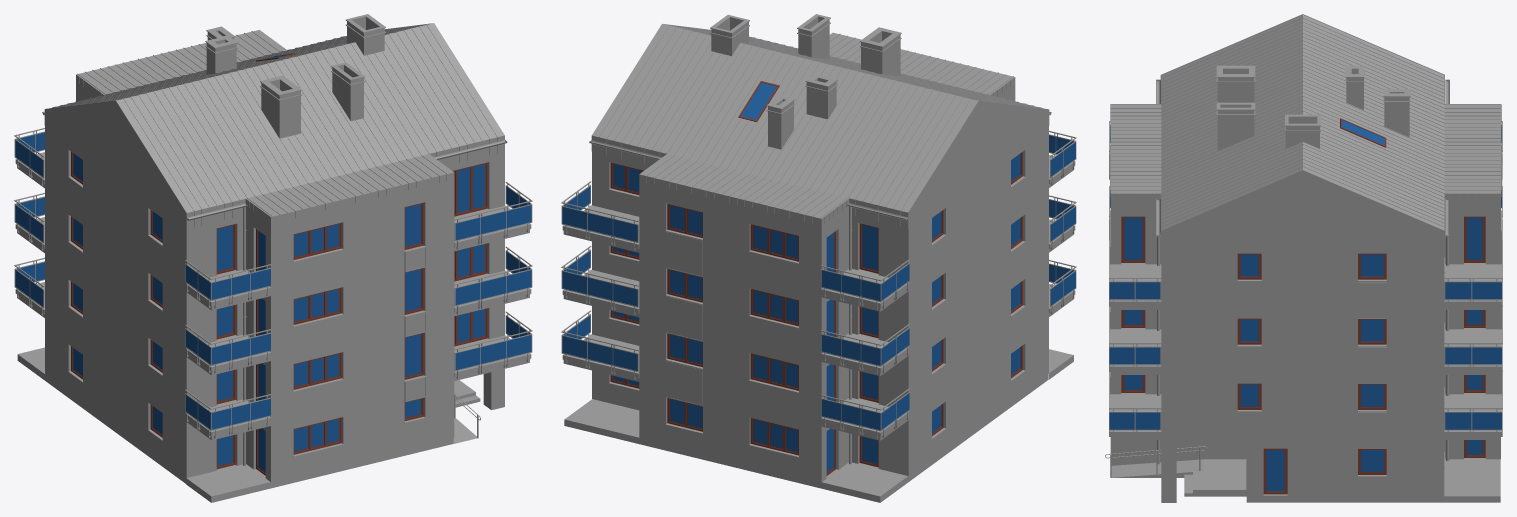
File: building_04.obj
3 renders of one model, left to right at view 1: azimuth 30°, elevation 25°; view 2: azimuth 150°, elevation 25°; view 3: azimuth 270°, elevation 25°, orthographic.
Parts seen in each view (by area): view 1: building_walls, roof, foundation_wall, window_005, barrels, chimney, balcony, metal_cover, terrace, boards, eneter_floor, gutters_003; view 2: building_walls, roof, foundation_wall, window_005, barrels, chimney, balcony, terrace, boards_001, metal_cover, window_roof, gutters_003; view 3: building_walls, roof, foundation_wall, window_005, barrels, balcony, chimney, boards_001, eneter_floor, terrace, metal_cover, roof_plate (+3 smaller).
Boxes of the visible parts, x1,y1,x2,y2 form: building_walls: (45, 81, 504, 417); roof: (44, 23, 504, 229); foundation_wall: (45, 310, 454, 488); window_005: (68, 151, 487, 475); barrels: (14, 128, 532, 438); chimney: (205, 14, 385, 138); balcony: (17, 152, 529, 440); metal_cover: (15, 152, 531, 436); terrace: (17, 347, 270, 502); boards: (404, 246, 426, 402); eneter_floor: (453, 380, 480, 443); gutters_003: (42, 111, 507, 220); building_walls: (592, 84, 1048, 417); roof: (591, 23, 1049, 228); foundation_wall: (592, 309, 1048, 488); window_005: (609, 152, 1025, 475); barrels: (561, 130, 1076, 438); chimney: (710, 14, 901, 149); balcony: (563, 155, 1073, 440); terrace: (564, 349, 1073, 502); boards_001: (665, 232, 702, 406); metal_cover: (562, 155, 1075, 436); window_roof: (738, 81, 779, 121); gutters_003: (589, 111, 1051, 220); building_walls: (1110, 179, 1500, 502); roof: (1110, 14, 1501, 246); foundation_wall: (1110, 431, 1500, 502); window_005: (1110, 165, 1502, 496); barrels: (1109, 121, 1502, 438); balcony: (1110, 263, 1500, 439); chimney: (1216, 65, 1410, 151); boards_001: (1358, 213, 1501, 448); eneter_floor: (1111, 459, 1246, 496); terrace: (1444, 458, 1500, 502); metal_cover: (1109, 145, 1501, 436); roof_plate: (1110, 193, 1500, 200).
Size of the model in its own units: 6.12 by 6.34 by 6.55.
